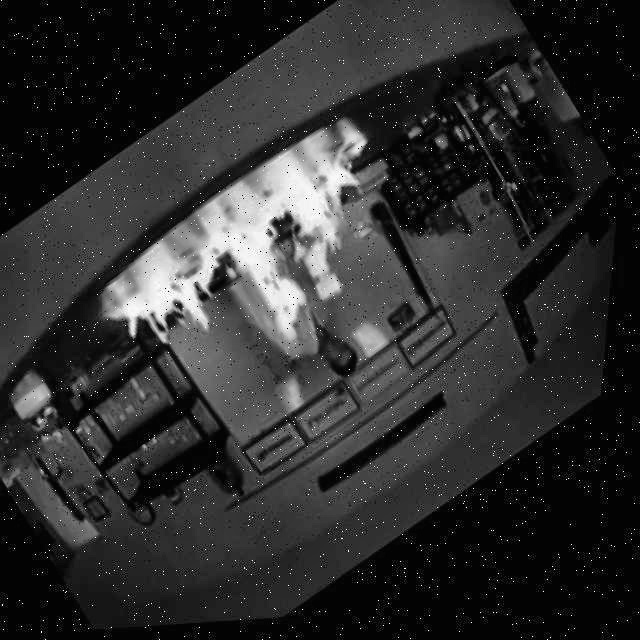Fire: (93, 123, 451, 441)
